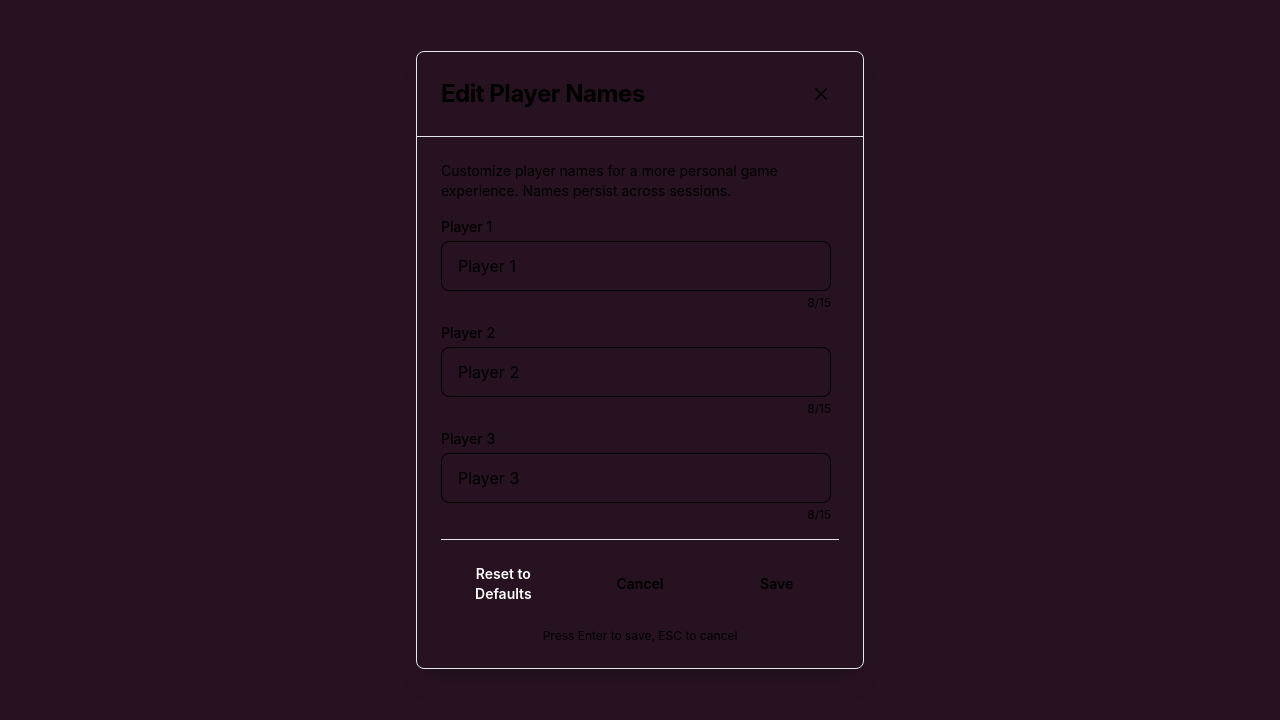
Test: PlayerNameEditor › reset functionality › should reset all names to defaults when reset clicked
Replace the text in the field named "Name for Player 1" with "Alice": [636, 266] box [441,241,831,291]
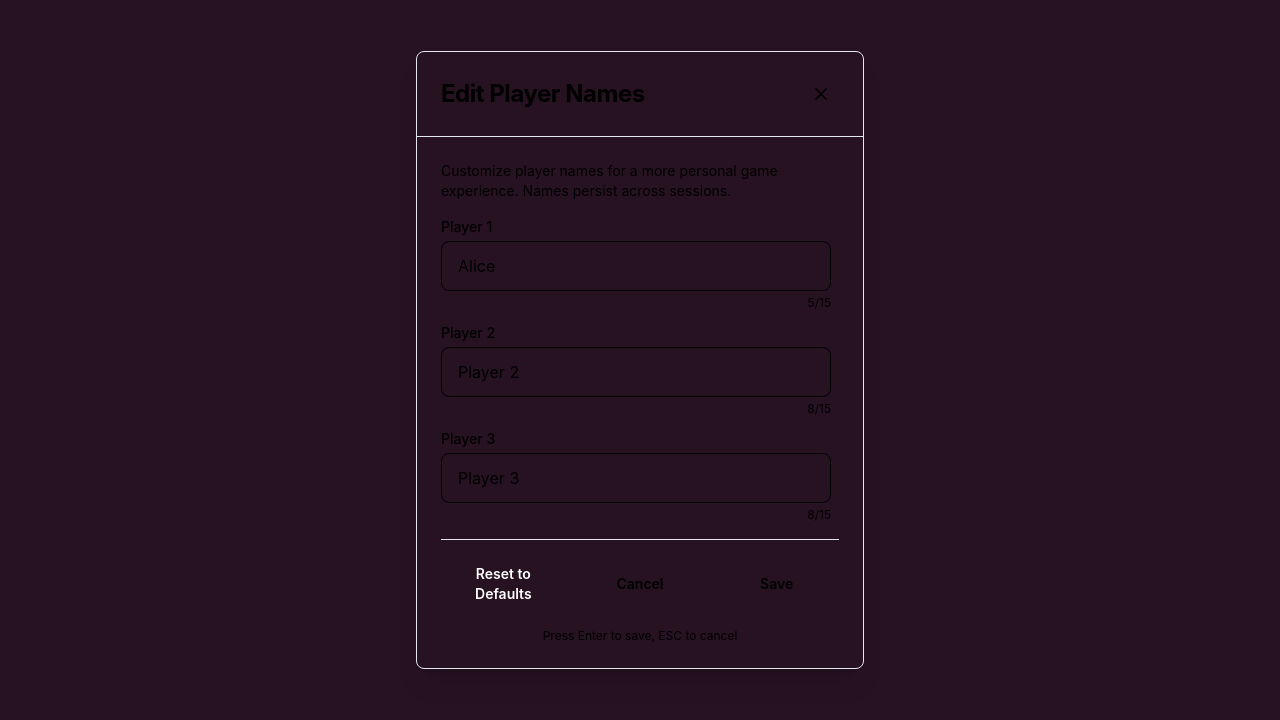
Click the button "Reset to Defaults": [503, 584] box [441,556,566,612]
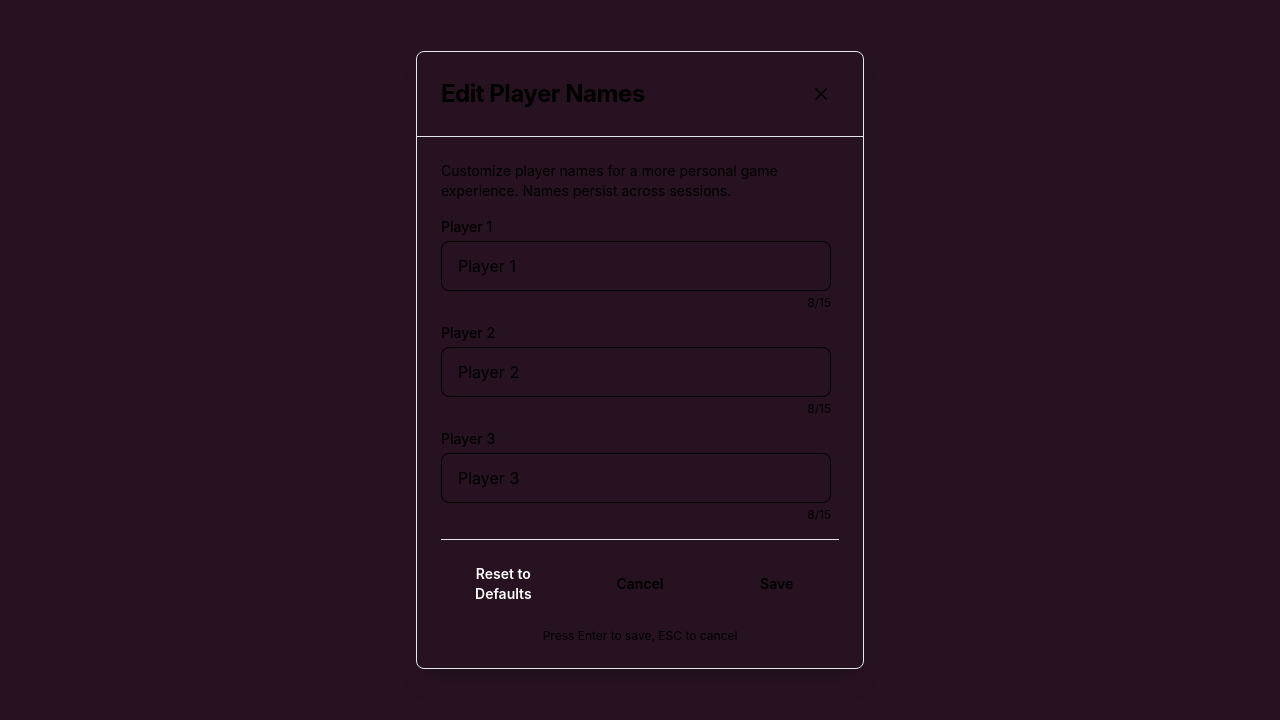
Expected: the field named "Name for Player 1" holds "Player 1", [441,241,831,291]
